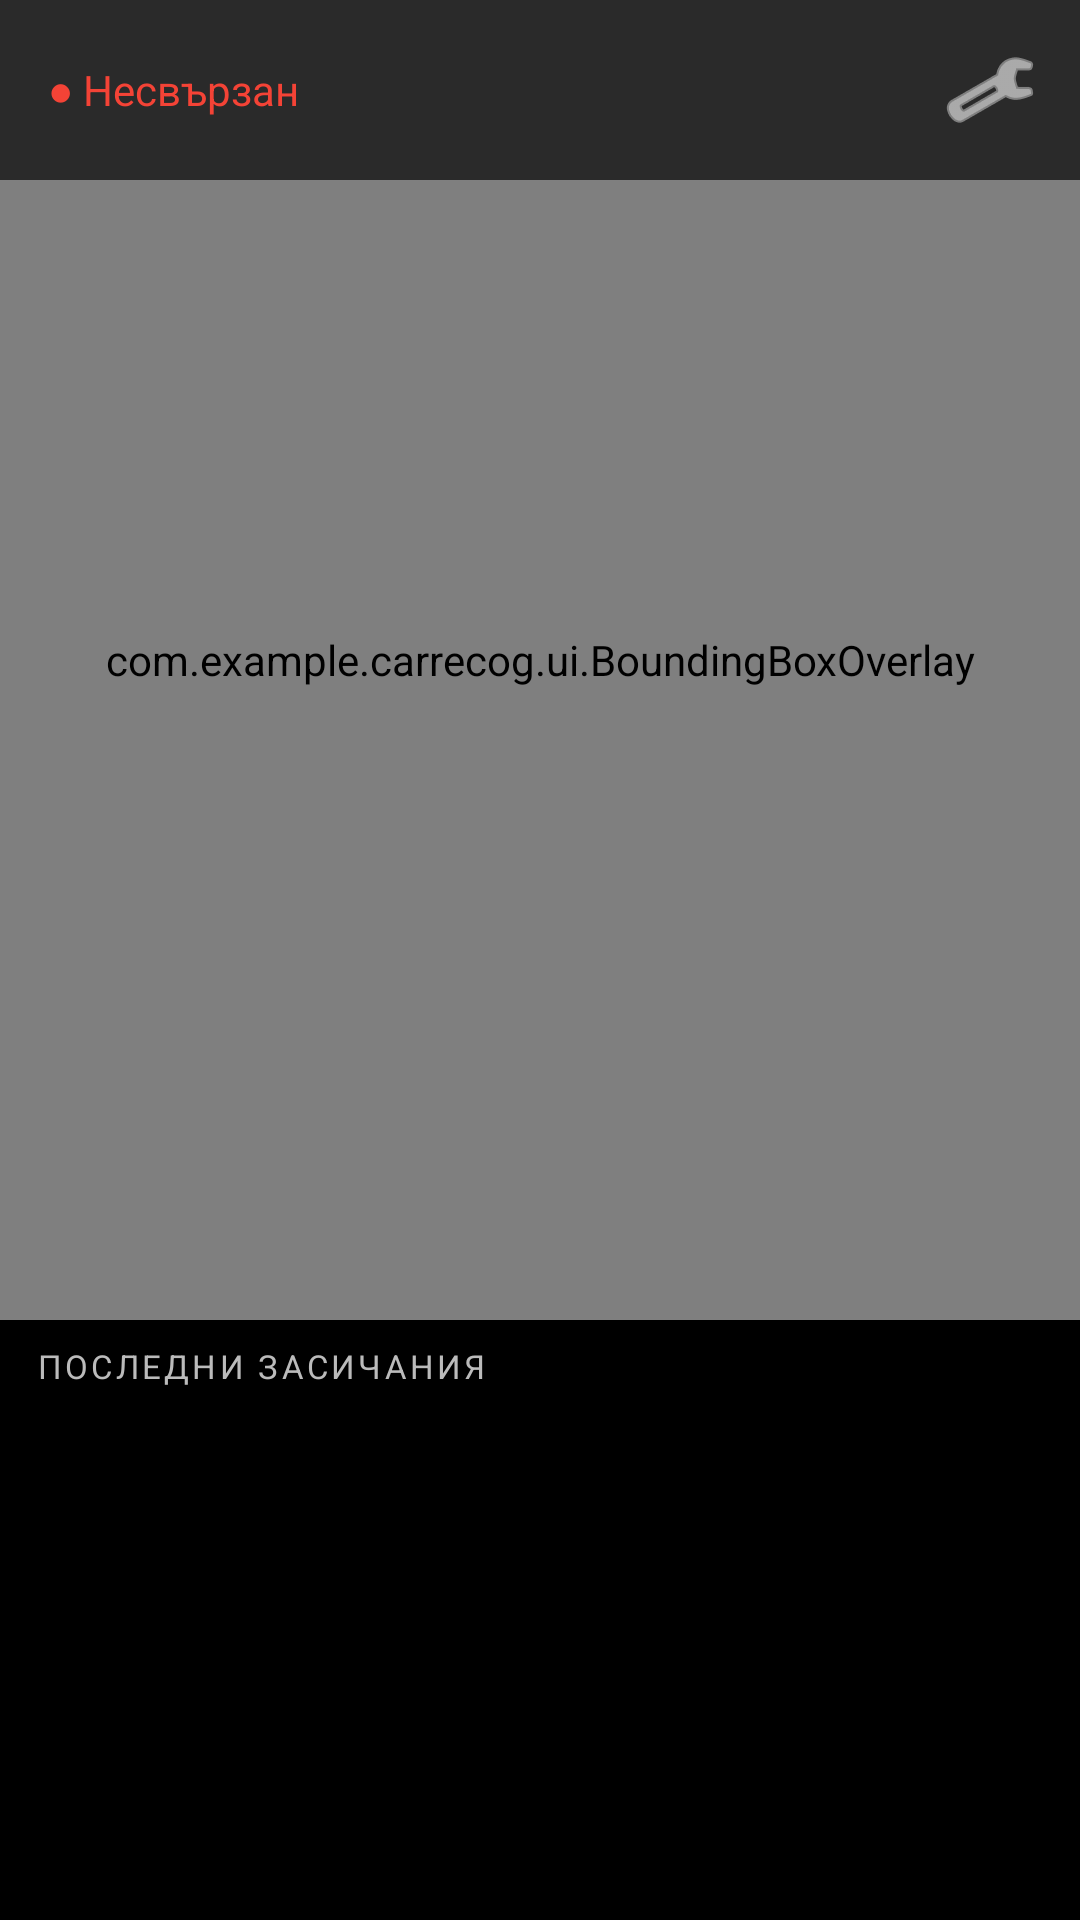

Named icons in this screenshot (1080×1920) and their centers, (x=x, y=y):
Настройки: (x=990, y=90)
